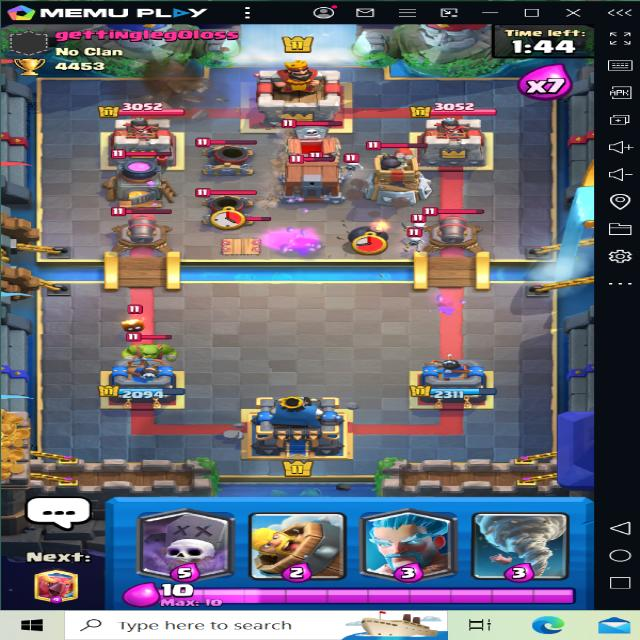bomb-tower: (359, 138, 438, 206)
brawler: (118, 333, 180, 368)
cannon: (419, 203, 488, 253), (114, 206, 176, 250)
fire-spirit: (115, 313, 146, 335)
furnace: (107, 149, 182, 207)
goblin-cage: (280, 150, 350, 198)
mortar: (193, 180, 261, 222), (194, 138, 257, 168)
skeleton: (399, 212, 429, 235), (337, 156, 370, 172), (404, 231, 429, 251)
tesla-closed: (210, 210, 270, 256)
tombstone: (278, 116, 352, 159)
